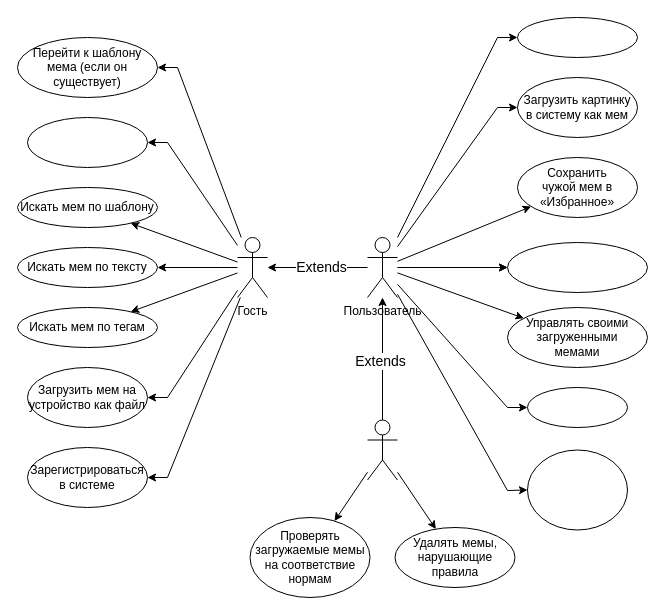
The diagram is 665 pixels wide and 615 high, and some of its shapes have lost their labels. Here are the shapes that lost their labels. From the top down, the centre of each, then its label:
At point 577,37: "Авторизоваться в системе".
At point 87,142: "Просматривать общую ленту мемов".
At point 577,267: "Просматривать свои сохранённые мемы".
At point 577,407: "Создавать новые теги".
At point 382,449: "Администратор".
At point 577,489: "Получать персональные предложения мемов".
